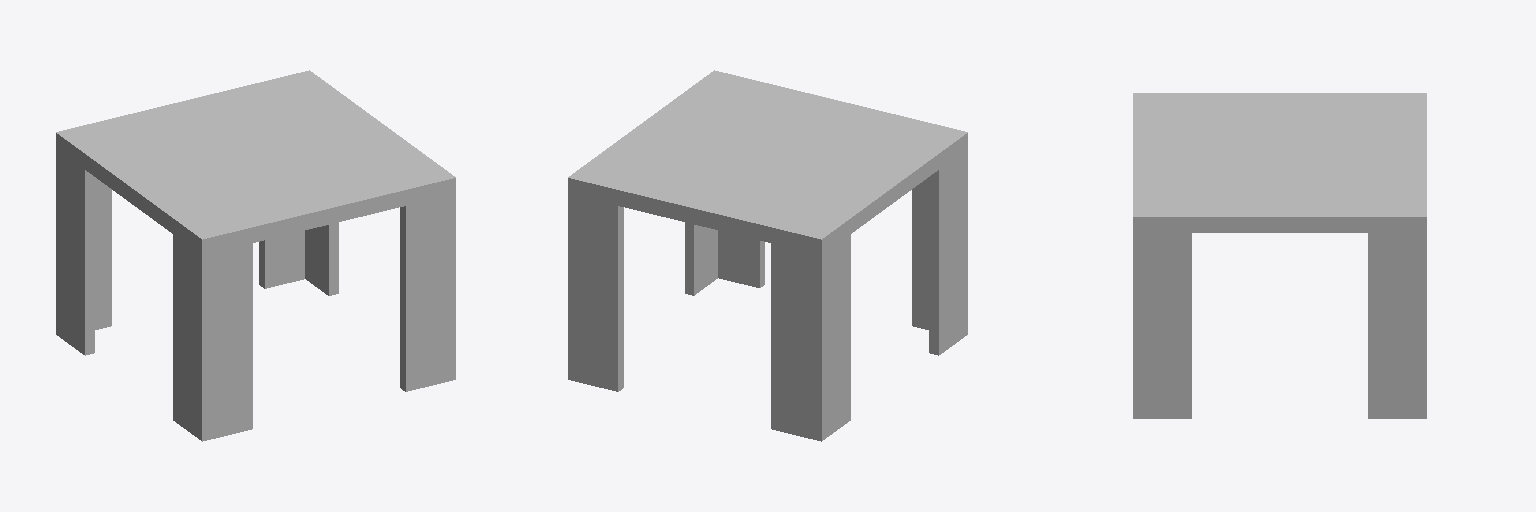
Rendered from particle_accelerator.obj.
3 renders of one model, left to right at view 1: azimuth 30°, elevation 25°; view 2: azimuth 150°, elevation 25°; view 3: azimuth 270°, elevation 25°, orthographic.
Visible parts, largest first — view 1: Cube.002_Cube.013; view 2: Cube.002_Cube.013; view 3: Cube.002_Cube.013.
Part boxes in pixels (x1,y1,x2,y2): Cube.002_Cube.013: (56,70,455,441); Cube.002_Cube.013: (568,70,967,441); Cube.002_Cube.013: (1133,93,1426,418).
Bounding box in the file's own units: 5 × 3.8 × 5.